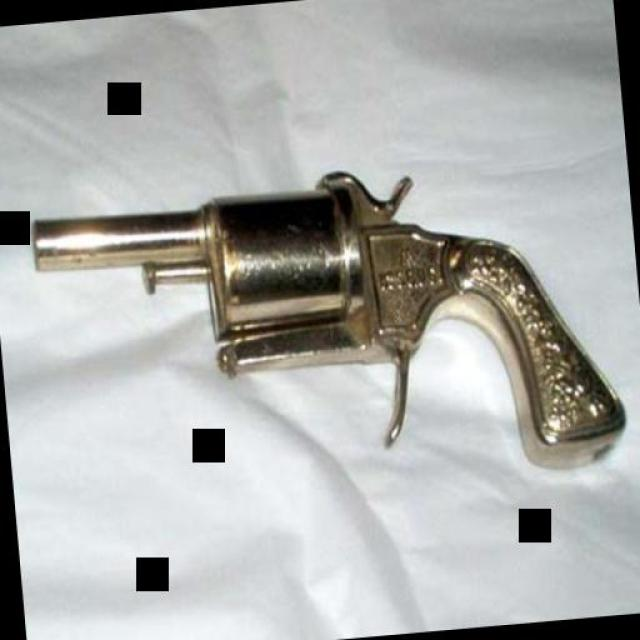gun: (23, 147, 632, 512)
